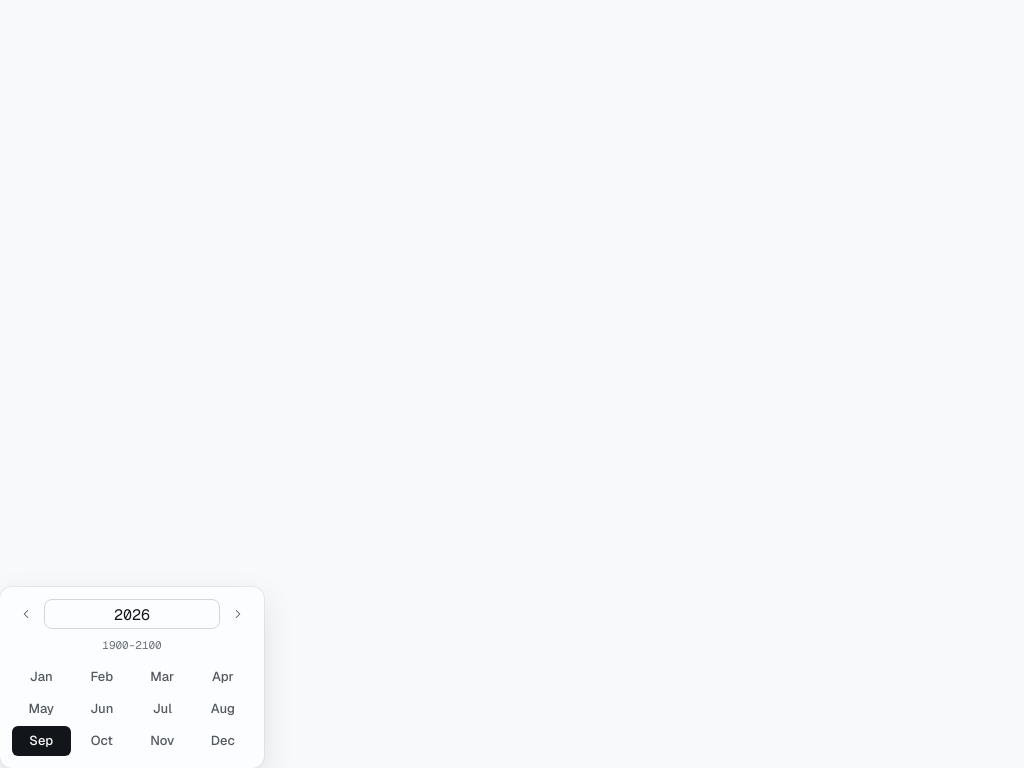
Test case: CalendarJumpPicker (month mode) › month buttons stay disabled until the year field holds a full four-digit year
The width and height of the screenshot is (1024, 768).
(page scrolled)
Replace the text in the field named "Year" with "20" at {"x": 132, "y": 614}, box top-left (44, 599), bottom-right (220, 629)
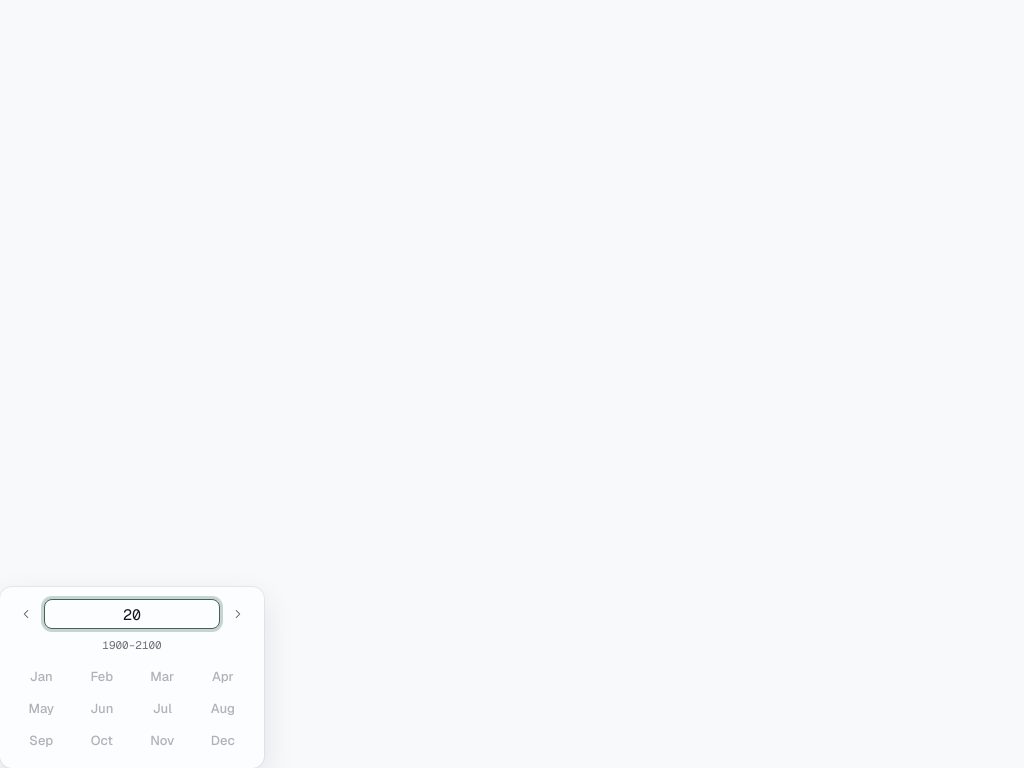
Expected: the button "Jan" is disabled
Click the button "Jan" at {"x": 41, "y": 676}, box top-left (12, 662), bottom-right (70, 692)
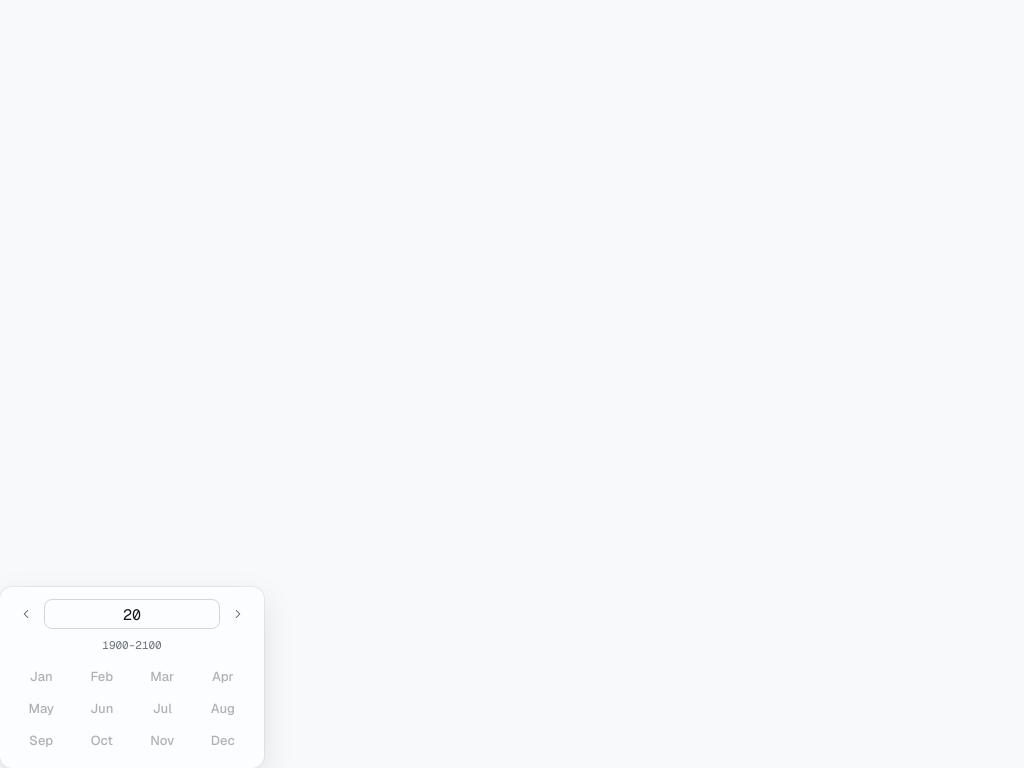
Type "26" into the field named "Year" at {"x": 132, "y": 614}, box top-left (44, 599), bottom-right (220, 629)
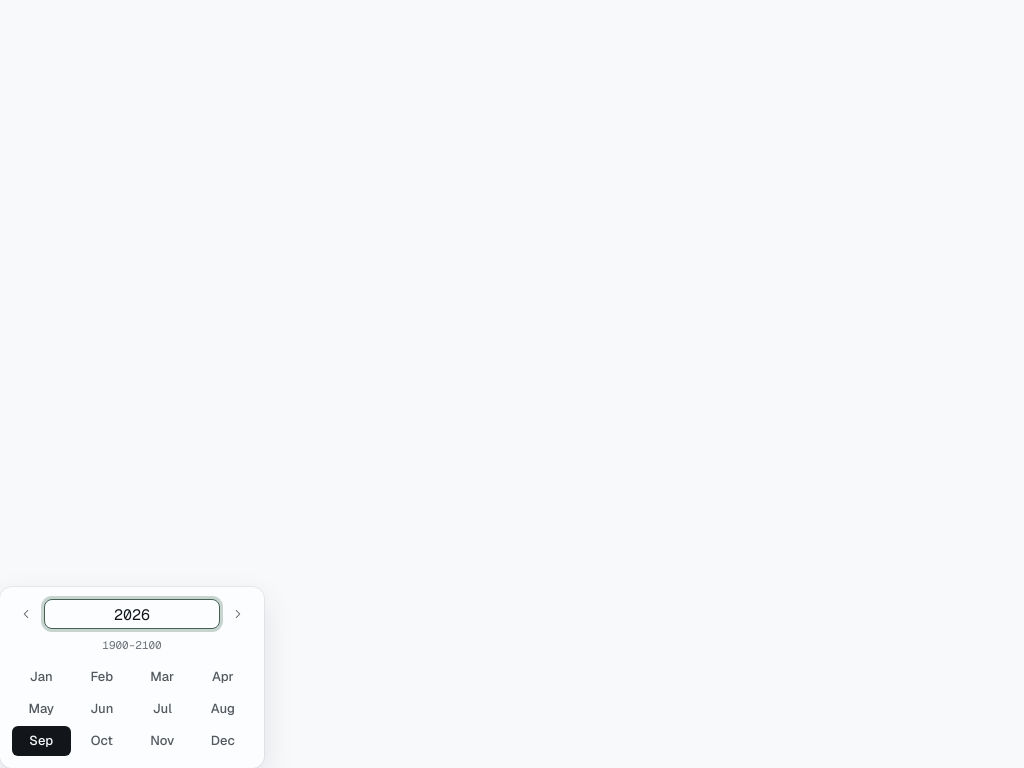
Expected: the field named "Year" holds "2026", top-left (44, 599), bottom-right (220, 629)
Expected: the button "Jan" is enabled, top-left (12, 662), bottom-right (70, 692)
